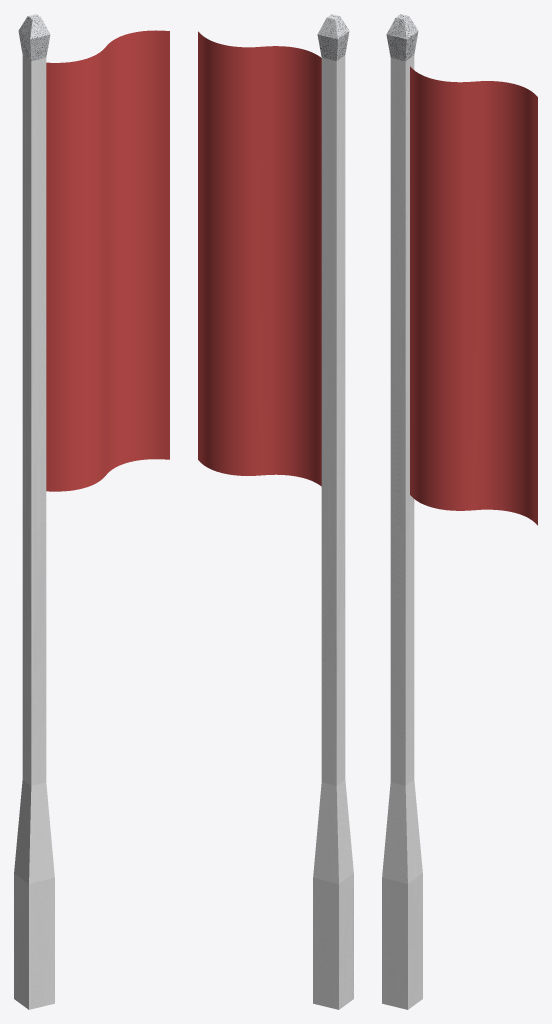
File: flag-red.dae
The picture shows the model from 3 angles, left to right: view 1: azimuth 30°, elevation 25°; view 2: azimuth 150°, elevation 25°; view 3: azimuth 330°, elevation 25°; orthographic projection.
Visible parts, largest first — view 1: flagRed, Group; view 2: flagRed, Group; view 3: flagRed, Group.
Boxes of the visible parts, x1,y1,x2,y2 form: flagRed: (46,30,169,491); Group: (14,14,54,1009); flagRed: (198,31,321,486); Group: (313,14,353,1009); flagRed: (410,66,537,525); Group: (382,14,422,1009).
Bounding box in the file's own units: 0.1972 × 1.25 × 0.0352.
